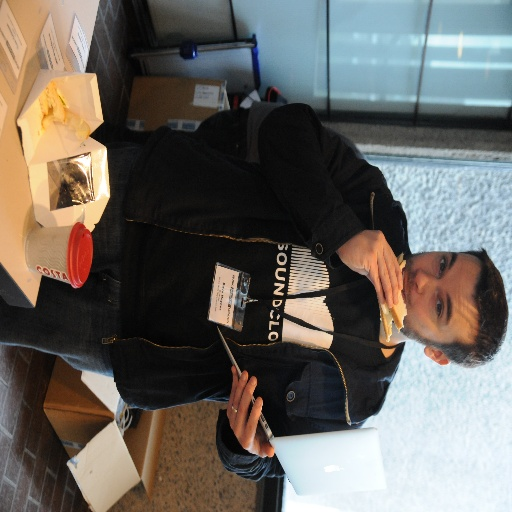hand: (337, 228, 404, 309), (221, 365, 273, 469)
